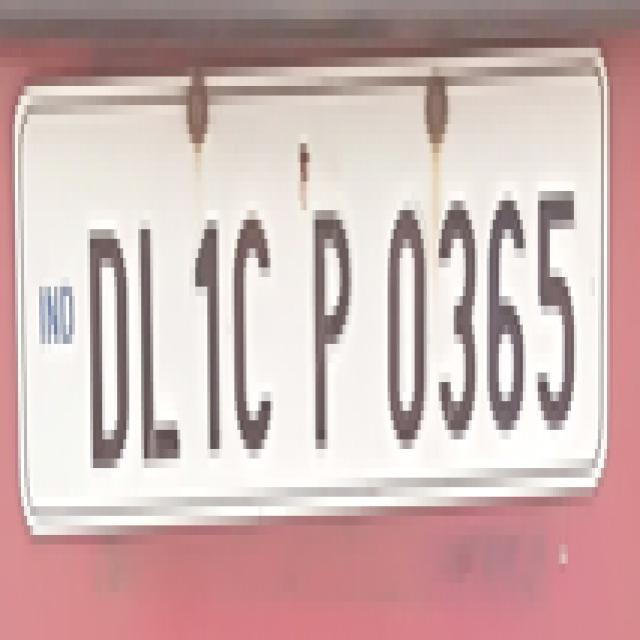0: (383, 203, 431, 454)
1: (184, 214, 230, 466)
3: (434, 189, 482, 452)
5: (534, 181, 582, 429)
6: (485, 189, 533, 437)
C: (232, 216, 278, 455)
D: (80, 220, 134, 479)
L: (134, 222, 184, 472)
P: (308, 198, 352, 462)
